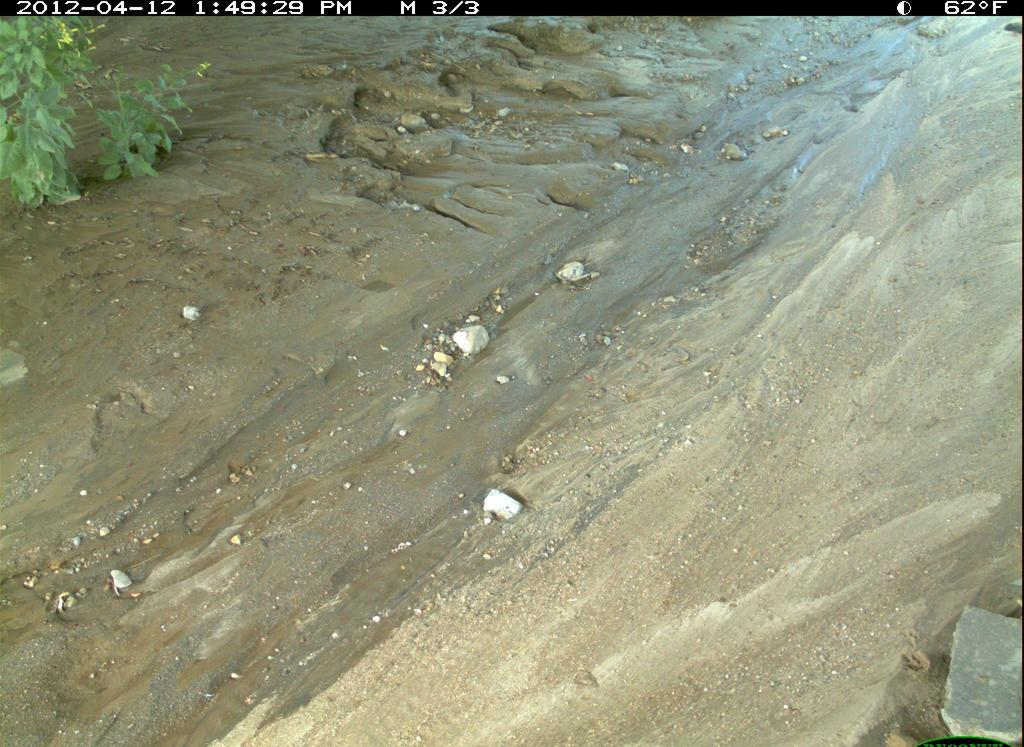bobcat: (3, 1, 1024, 747)
